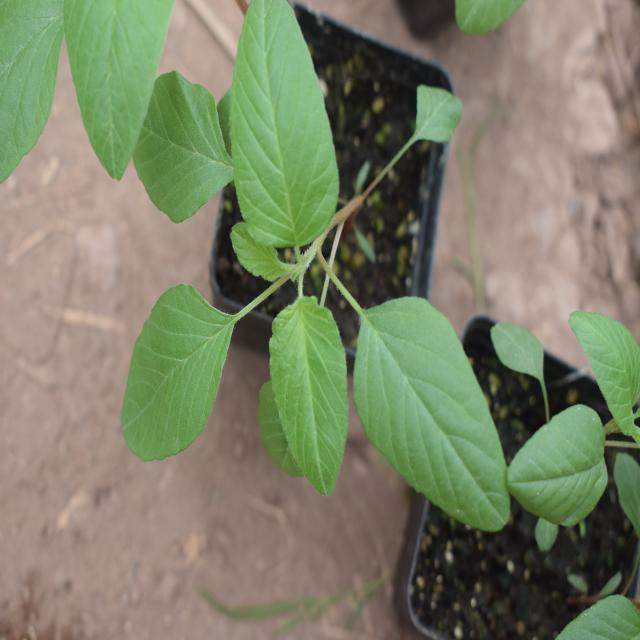pigweed: (125, 21, 488, 534)
